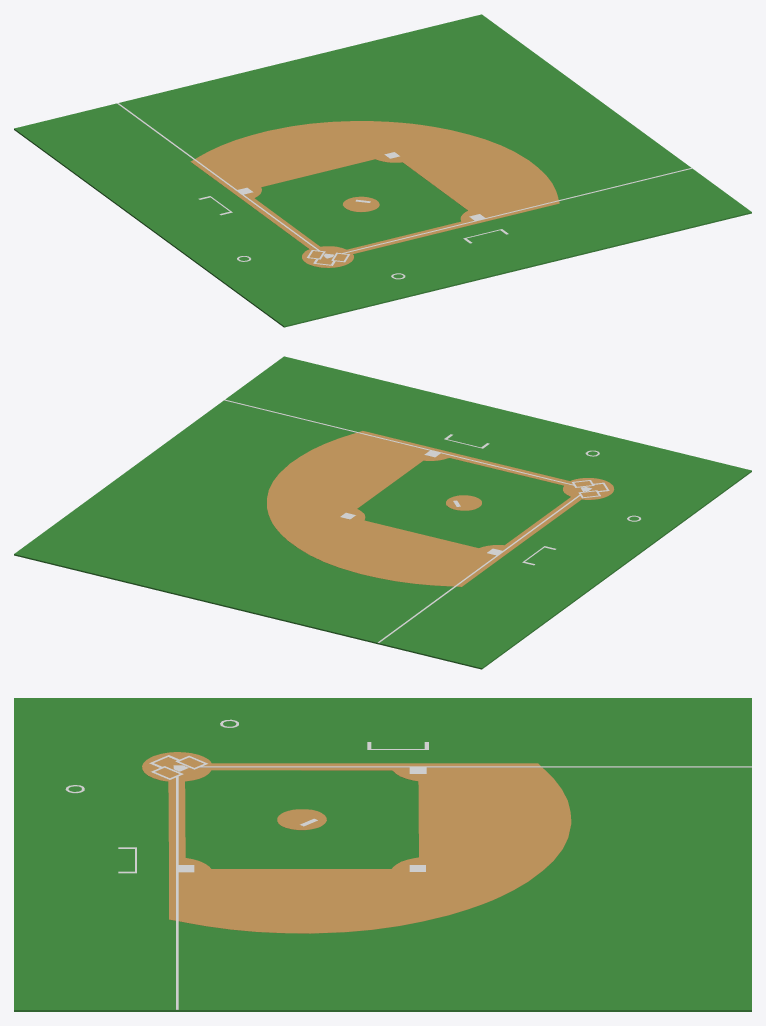
File: Baseball Field.fbx
The picture shows the model from 3 angles, top to bottom: view 1: azimuth 30°, elevation 25°; view 2: azimuth 150°, elevation 25°; view 3: azimuth 270°, elevation 25°; orthographic projection. The views are drawn at different scales.
Visible parts, largest first — view 1: Baseball Field; view 2: Baseball Field; view 3: Baseball Field.
Part boxes in pixels (<box>): Baseball Field: <box>14,14,751,327</box>; Baseball Field: <box>14,356,751,669</box>; Baseball Field: <box>14,698,751,1011</box>.
Bounding box in the file's own units: 16324 × 52.13 × 16324.
